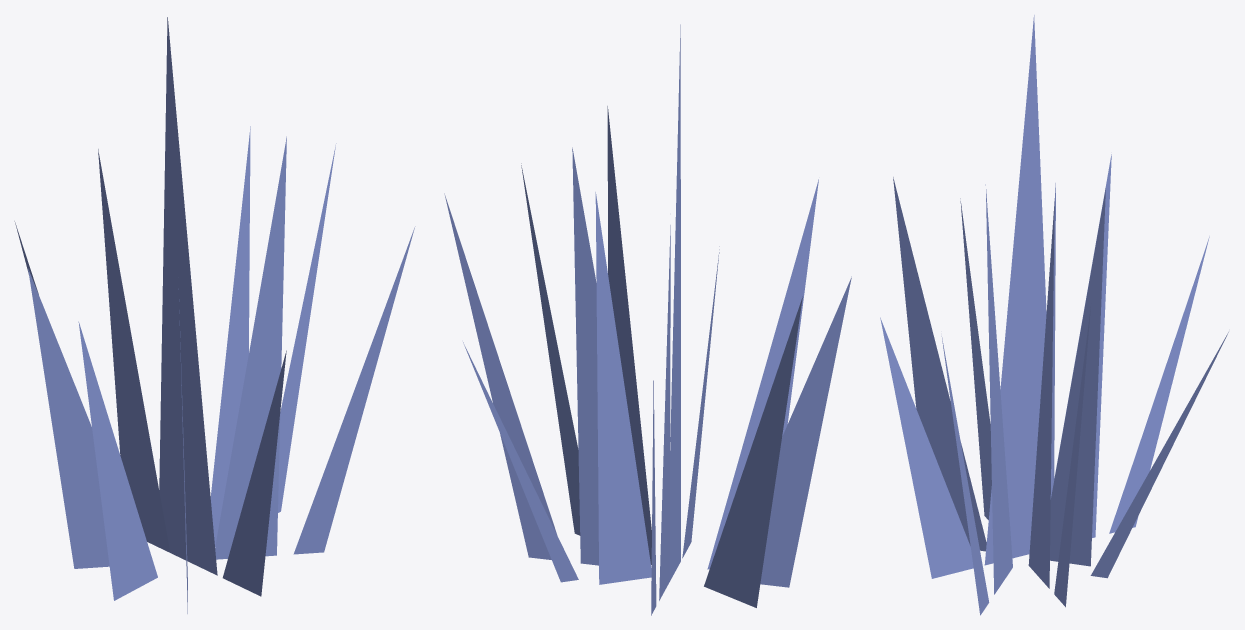
File: Pasto_3.fbx
3 views of the same model, side by side, from view 1: azimuth 30°, elevation 25°; view 2: azimuth 150°, elevation 25°; view 3: azimuth 270°, elevation 25° (orthographic). The views are drawn at different scales.
Visible parts, largest first — view 1: Grass.002; view 2: Grass.002; view 3: Grass.002.
Boxes of the visible parts, left/top/right/bottom form: Grass.002: left=14, top=17, right=415, bottom=613; Grass.002: left=444, top=24, right=851, bottom=615; Grass.002: left=880, top=15, right=1228, bottom=615.
Size of the model in its own units: 44.2 by 71.21 by 41.54.
